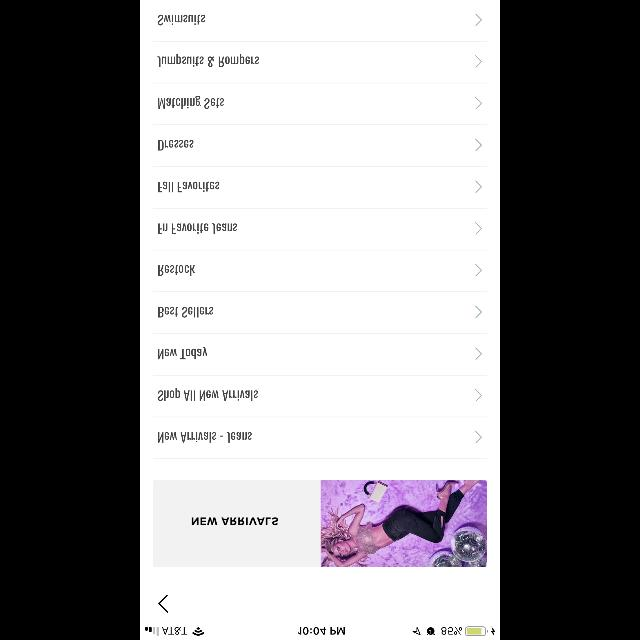icon: (158, 595, 168, 613), (476, 14, 482, 26), (476, 55, 482, 67), (476, 97, 482, 109), (476, 139, 482, 151), (476, 181, 482, 193), (476, 222, 482, 234), (476, 264, 482, 276), (476, 306, 482, 318), (476, 348, 482, 360), (476, 389, 482, 401), (476, 431, 482, 443)
image: (321, 479, 487, 566)
text: (157, 54, 259, 68), (158, 388, 258, 400), (158, 432, 252, 442), (158, 223, 238, 234), (158, 95, 224, 108), (192, 517, 278, 525), (158, 306, 214, 318), (158, 346, 208, 359), (158, 182, 220, 192), (158, 14, 206, 26), (158, 264, 196, 276), (158, 140, 194, 150)
uppertaskbar: (140, 626, 500, 640)
